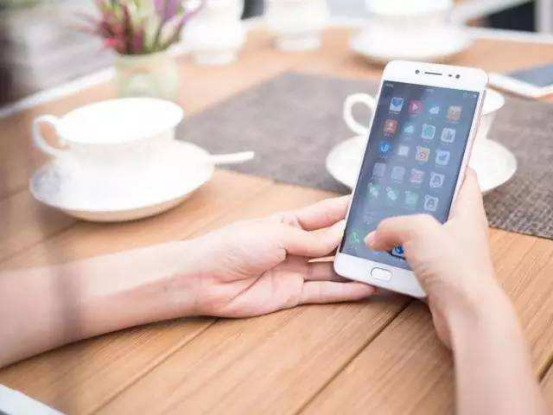reading: (191, 46, 508, 345)
